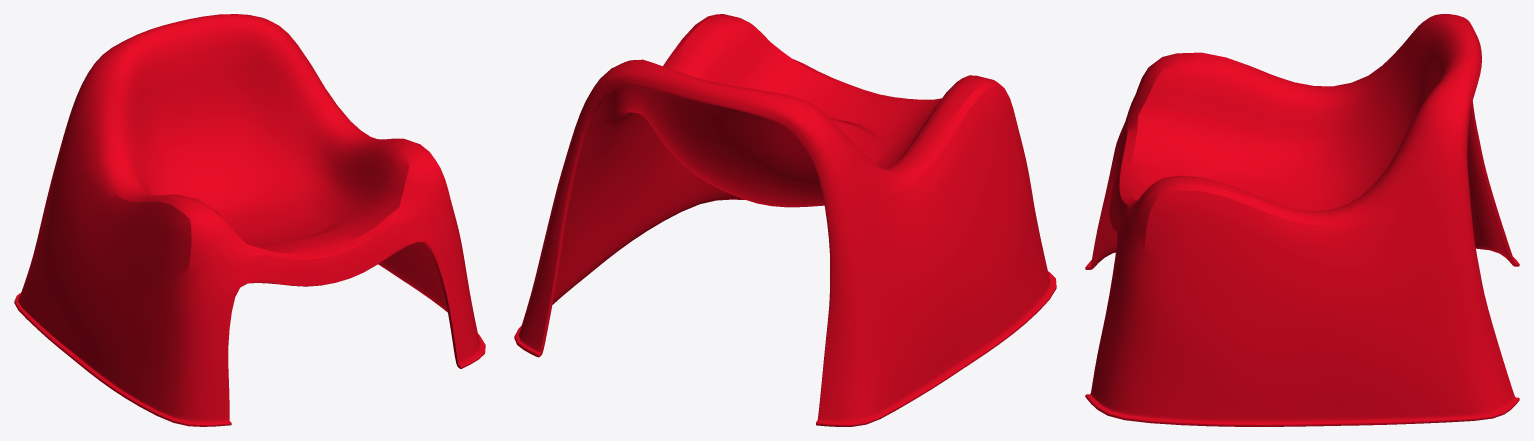
File: silla.gltf
The picture shows the model from 3 angles, left to right: view 1: azimuth 30°, elevation 25°; view 2: azimuth 150°, elevation 25°; view 3: azimuth 270°, elevation 25°; orthographic projection. The views are drawn at different scales.
Visible parts, largest first — view 1: Toga; view 2: Toga; view 3: Toga.
Part boxes in pixels (<box>): Toga: <box>14,14,485,426</box>; Toga: <box>514,14,1056,426</box>; Toga: <box>1085,14,1519,426</box>.
Size of the model in its own units: 0.882 by 0.6311 by 0.8646.
